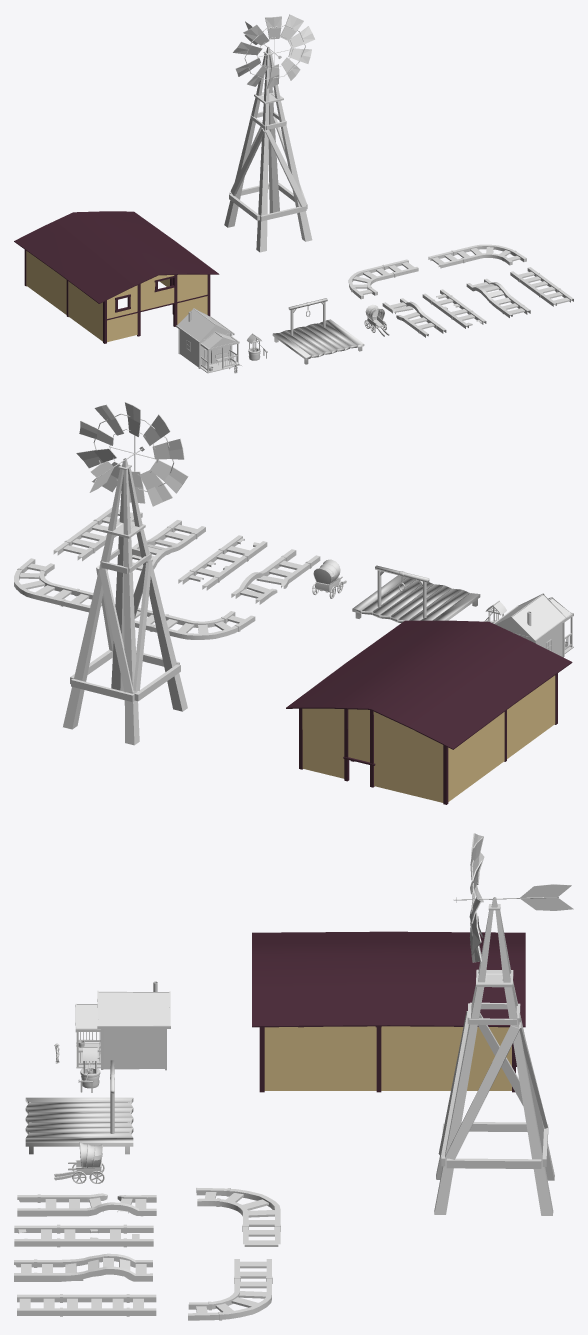
The model's file is NovosAssetsAntigosLucas.fbx.
The picture shows the model from 3 angles, top to bottom: view 1: azimuth 30°, elevation 25°; view 2: azimuth 150°, elevation 25°; view 3: azimuth 270°, elevation 25°; orthographic projection. The views are drawn at different scales.
Visible parts, largest first — view 1: Celeiro, Moinho, Casa, forca, TrilhoCruva2, TrilhoCurva, Trilho2, Trilho, TrilhoQuebrado, TrilhoQuebrado2, Carroça; view 2: Celeiro, Moinho, forca, Casa, TrilhoCruva2, TrilhoCurva, TrilhoQuebrado, TrilhoQuebrado2, Trilho2, Trilho, Carroça; view 3: Celeiro, Moinho, Casa, forca, Trilho2, Trilho, TrilhoCruva2, TrilhoQuebrado2, TrilhoCurva, TrilhoQuebrado, Carroça, Poço.
Boxes of the visible parts, bbox=[...] form: Celeiro: bbox=[14, 211, 219, 343]; Moinho: bbox=[224, 14, 314, 252]; Casa: bbox=[176, 308, 239, 373]; forca: bbox=[272, 298, 364, 364]; TrilhoCruva2: bbox=[428, 244, 526, 268]; TrilhoCurva: bbox=[348, 259, 418, 299]; Trilho2: bbox=[466, 278, 530, 317]; Trilho: bbox=[510, 267, 573, 306]; TrilhoQuebrado: bbox=[382, 298, 446, 337]; TrilhoQuebrado2: bbox=[422, 289, 486, 328]; Carroça: bbox=[364, 304, 389, 336]; Celeiro: bbox=[286, 620, 572, 804]; Moinho: bbox=[63, 402, 188, 745]; forca: bbox=[352, 565, 480, 622]; Casa: bbox=[493, 593, 573, 657]; TrilhoCruva2: bbox=[14, 558, 101, 612]; TrilhoCurva: bbox=[134, 607, 255, 639]; TrilhoQuebrado: bbox=[231, 549, 320, 604]; TrilhoQuebrado2: bbox=[178, 535, 267, 590]; Trilho2: bbox=[132, 520, 205, 570]; Trilho: bbox=[53, 507, 142, 561]; Carroça: bbox=[312, 559, 346, 598]; Celeiro: bbox=[252, 931, 525, 1092]; Moinho: bbox=[434, 833, 573, 1215]; Casa: bbox=[75, 981, 170, 1070]; forca: bbox=[25, 1060, 133, 1154]; Trilho2: bbox=[14, 1253, 152, 1281]; Trilho: bbox=[17, 1294, 156, 1316]; TrilhoCruva2: bbox=[188, 1259, 272, 1320]; TrilhoQuebrado2: bbox=[14, 1224, 153, 1247]; TrilhoCurva: bbox=[196, 1187, 280, 1246]; TrilhoQuebrado: bbox=[17, 1193, 156, 1216]; Carroça: bbox=[54, 1142, 104, 1183]; Poço: bbox=[78, 1047, 100, 1092].
Bounding box in the file's own units: 6191 × 3196 × 4590.
